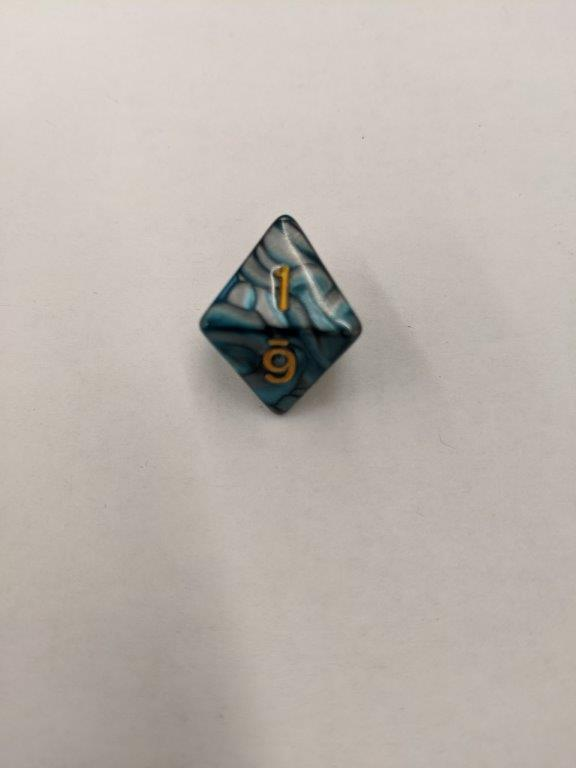d8-1: (197, 213, 363, 416)
